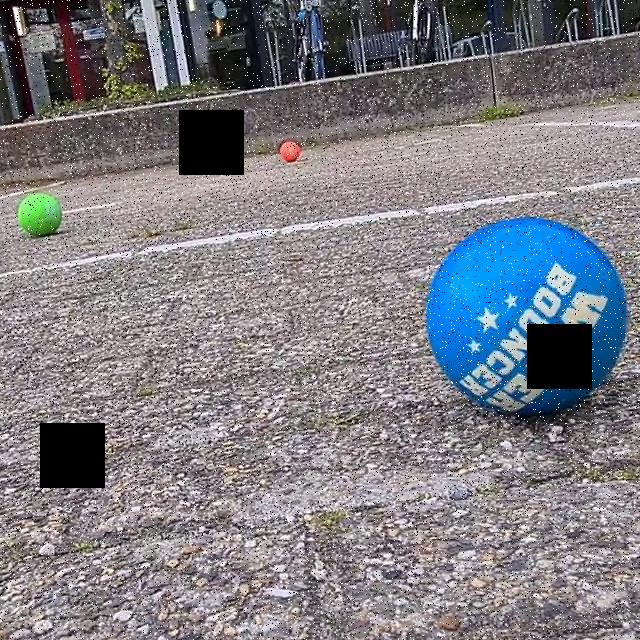ball: (15, 191, 66, 239), (278, 138, 304, 164)
